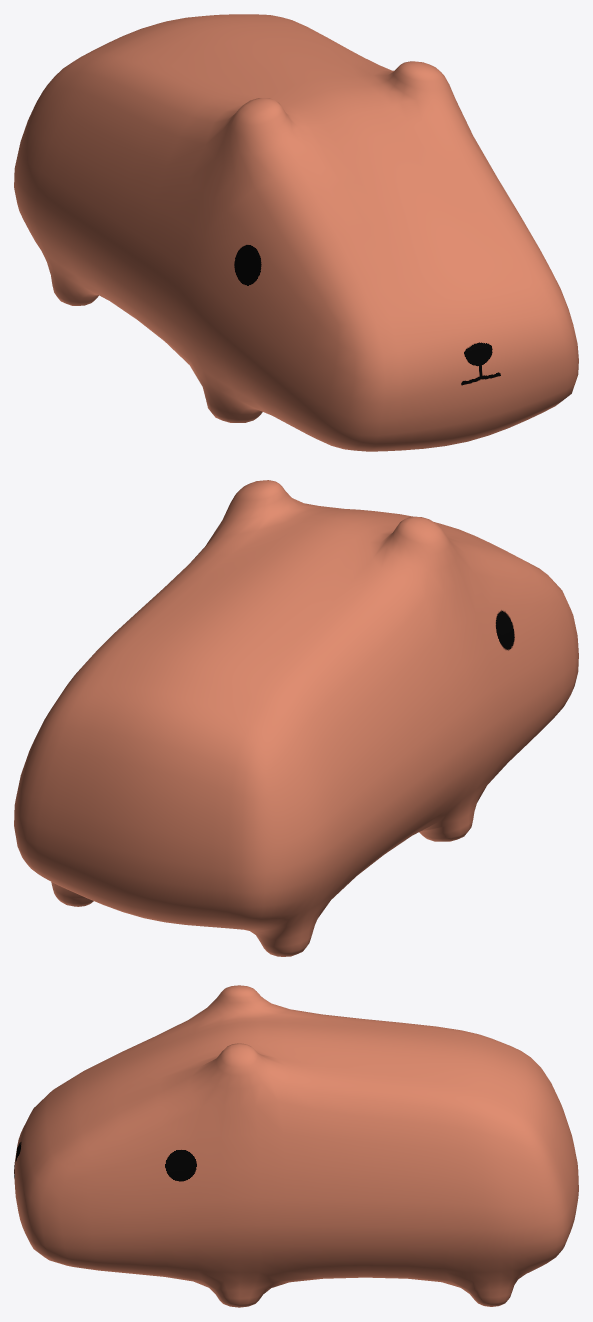
File: kapibarasan.fbx
3 renders of one model, top to bottom at view 1: azimuth 30°, elevation 25°; view 2: azimuth 150°, elevation 25°; view 3: azimuth 270°, elevation 25°, orthographic. The views are drawn at different scales.
Parts seen in each view (by area): view 1: Cube; view 2: Cube; view 3: Cube.
Part boxes in pixels (bbox=[...]): Cube: bbox=[14, 14, 578, 451]; Cube: bbox=[14, 480, 578, 956]; Cube: bbox=[14, 985, 578, 1307].
Bounding box in the file's own units: 226 × 224 × 463.
